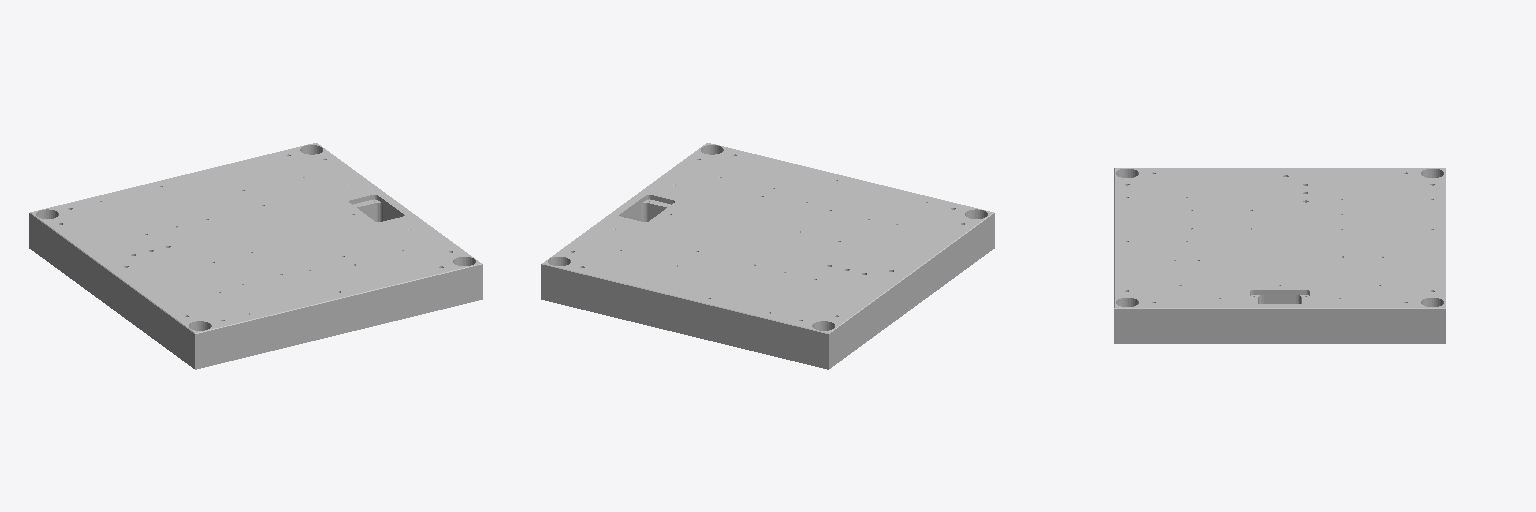
File: plate.obj
3 renders of one model, left to right at view 1: azimuth 30°, elevation 25°; view 2: azimuth 150°, elevation 25°; view 3: azimuth 270°, elevation 25°, orthographic.
Parts seen in each view (by area): view 1: Base_Plate.000_Base_Plate.001; view 2: Base_Plate.000_Base_Plate.001; view 3: Base_Plate.000_Base_Plate.001.
Part boxes in pixels (left/top/right/bottom): Base_Plate.000_Base_Plate.001: left=29, top=143, right=482, bottom=369; Base_Plate.000_Base_Plate.001: left=541, top=143, right=994, bottom=369; Base_Plate.000_Base_Plate.001: left=1114, top=168, right=1445, bottom=343.
Bounding box in the file's own units: 4.97 × 0.5964 × 4.97.